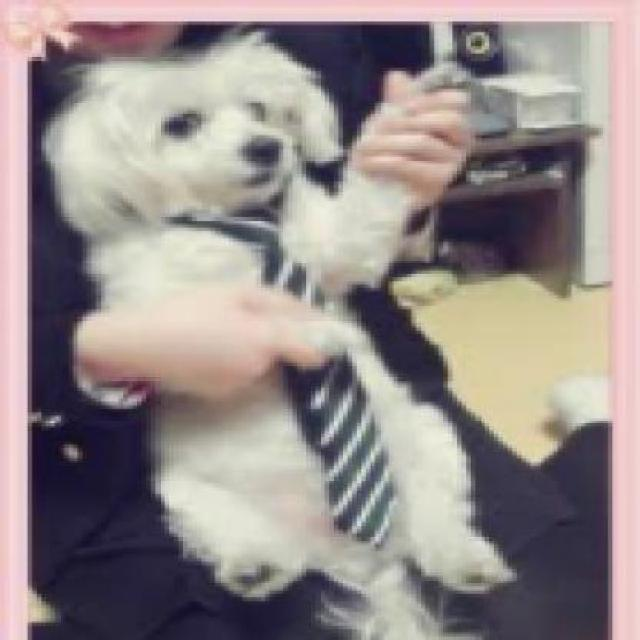Dog: (39, 31, 526, 638)
